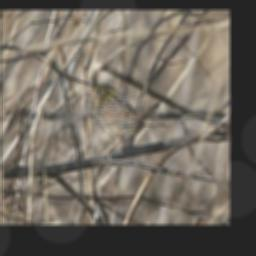Sparrow: (82, 81, 164, 160)
